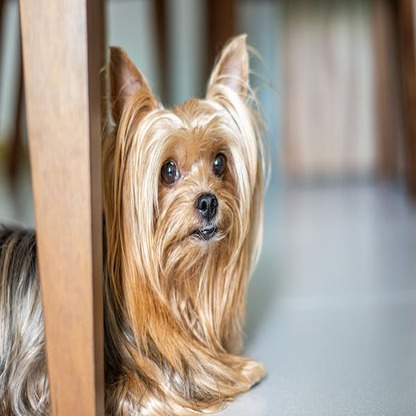yorkshire: (12, 34, 269, 416)
